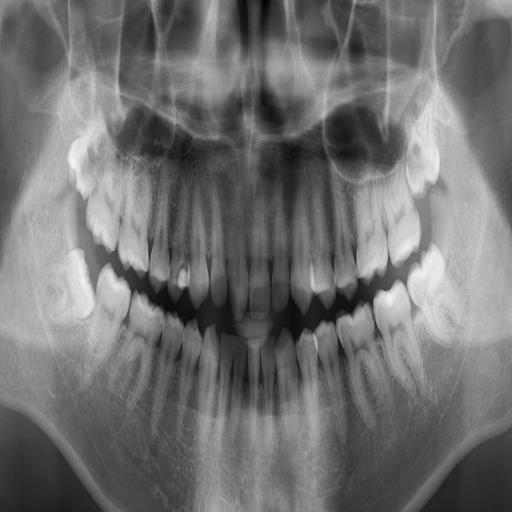Wisdom teeth: (408, 244, 460, 342), (40, 249, 94, 325), (407, 114, 439, 196), (69, 123, 99, 198)
